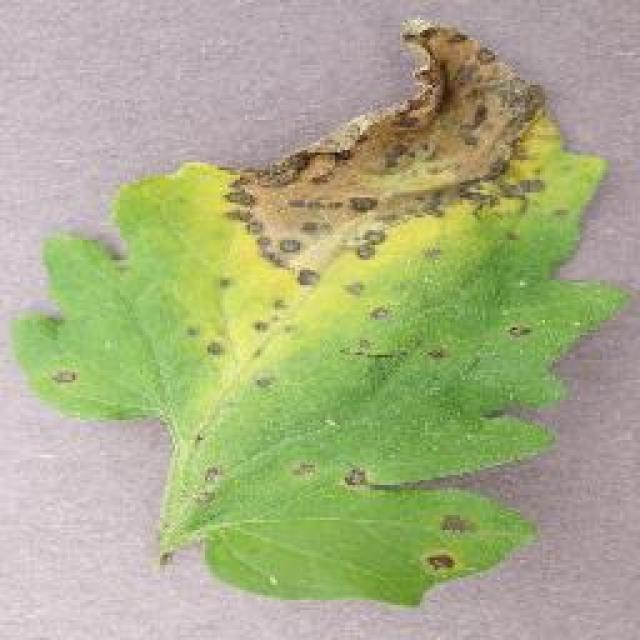Tomato target spot leaf: (31, 14, 631, 608)
